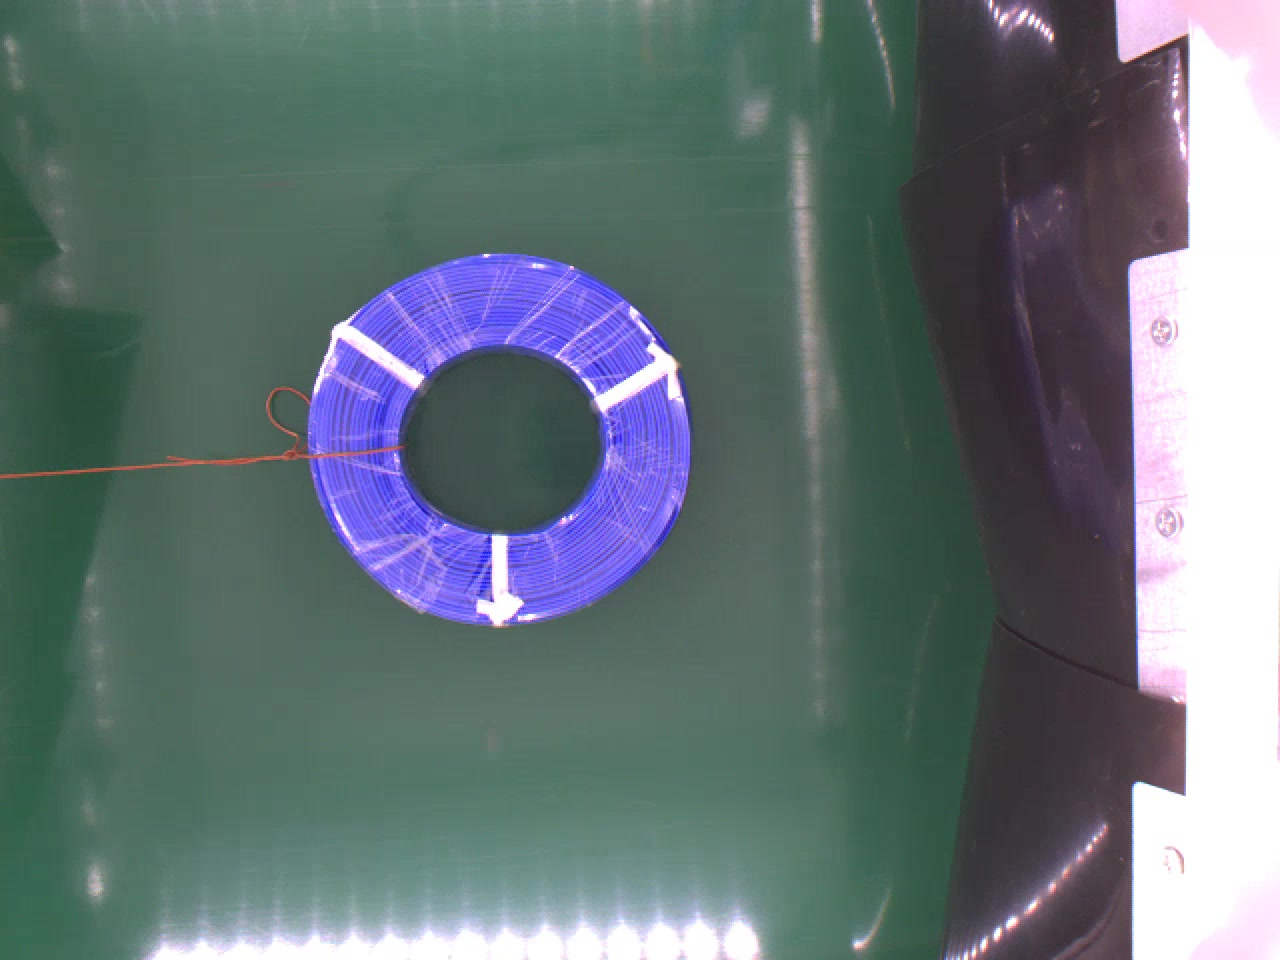blue: (304, 253, 696, 624)
